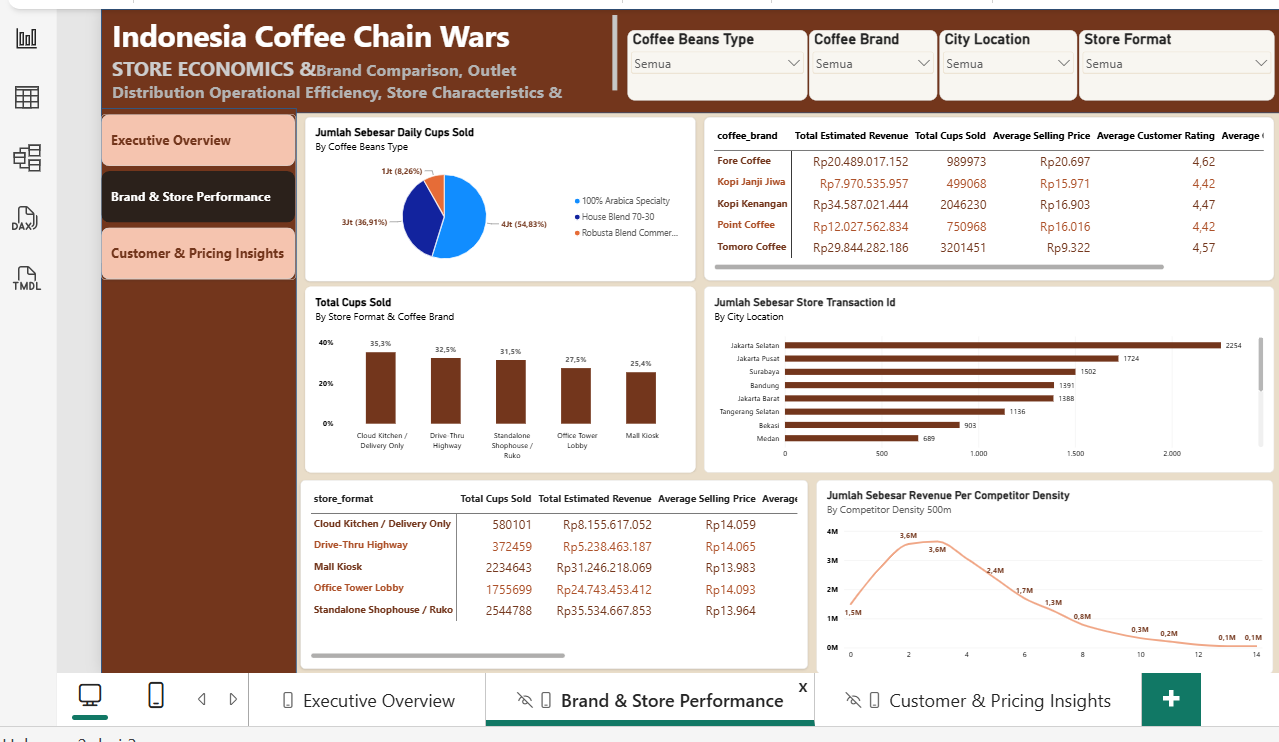

What the dashboard file says about the page in this screenshot:
{"tool":"powerbi","page":{"name":"Brand & Store Performance","canvas":[1920,1080],"ordinal":1},"visuals":[{"type":"shape","box":[0,0,2561.2,169.6],"z":0},{"type":"textbox","box":[17.8,10.2,822.5,147.5],"z":1000},{"type":"barChart","title":"Jumlah Sebesar Store Transaction Id","fields":{"Category":["Dataset.city_location"],"Y":["CountNonNull(Dataset.store_transaction_id)"]},"box":[980.8,451.4,927.1,302.5],"z":2000},{"type":"shape","box":[0,160.3,318,1109.3],"z":3000},{"type":"columnChart","title":"Total Cups Sold","fields":{"Category":["Dataset.store_format"],"Y":["_MEASURE.Average Operating Margin (%)"]},"box":[332.5,452.5,635,302.5],"z":4000},{"type":"pivotTable","fields":{"Rows":["Dataset.coffee_brand"],"Values":["_MEASURE.Total Estimated Revenue","_MEASURE.Total Cups Sold","_MEASURE.Average Selling Price","_MEASURE.Average Customer Rating","_MEASURE.Average Operating Margin (%)"]},"box":[980.8,175.7,927.1,265.9],"z":5000},{"type":"slicer","fields":{"Values":["Dataset.coffee_beans_type"]},"box":[857.4,33.1,292.6,114.5],"z":6000},{"type":"pageNavigator","box":[0,170,317.5,270],"z":7000},{"type":"slicer","fields":{"Values":["Dataset.coffee_brand"]},"box":[1152.5,33.1,208.6,114.5],"z":8000},{"type":"slicer","fields":{"Values":["Dataset.city_location"]},"box":[1363.7,33.1,223.9,114.5],"z":9000},{"type":"slicer","fields":{"Values":["Dataset.store_format"]},"box":[1590.1,33.1,318,114.5],"z":10000},{"type":"lineChart","title":"Jumlah Sebesar Revenue Per Competitor Density","fields":{"Category":["Dataset.competitor_density_500m"],"Y":["Sum(Dataset.revenue_per_competitor_density)"]},"box":[1165,765,742.5,315],"z":11000},{"type":"pieChart","title":"Jumlah Sebesar Daily Cups Sold","fields":{"Category":["Dataset.coffee_beans_type"],"Y":["Sum(Dataset.daily_cups_sold)"]},"box":[332.5,175,635,267.5],"z":12000},{"type":"pivotTable","fields":{"Rows":["Dataset.store_format"],"Values":["_MEASURE.Total Cups Sold","_MEASURE.Total Estimated Revenue","_MEASURE.Average Selling Price","_MEASURE.Average Operating Margin (%)","Sum(Dataset.competitor_density_500m)"]},"box":[325,765,825,307.5],"z":13000}]}

Visuals, with their boxes on the page's 1920x1080 design canvas (x1, y1, x2, y2). These are canvas units, not pixel positions in the 1279x742 screenshot, which may show the page scaled, cropped or inside an application window:
shape: 0,0,2561,170
textbox: 18,10,840,158
"Jumlah Sebesar Store Transaction Id" barChart: 981,451,1908,754
shape: 0,160,318,1270
"Total Cups Sold" columnChart: 332,452,968,755
pivotTable - Dataset.coffee_brand x _MEASURE.Total Estimated Revenue: 981,176,1908,442
slicer - Dataset.coffee_beans_type: 857,33,1150,148
pageNavigator: 0,170,318,440
slicer - Dataset.coffee_brand: 1152,33,1361,148
slicer - Dataset.city_location: 1364,33,1588,148
slicer - Dataset.store_format: 1590,33,1908,148
"Jumlah Sebesar Revenue Per Competitor Density" lineChart: 1165,765,1908,1080
"Jumlah Sebesar Daily Cups Sold" pieChart: 332,175,968,442
pivotTable - Dataset.store_format x _MEASURE.Total Cups Sold: 325,765,1150,1072
